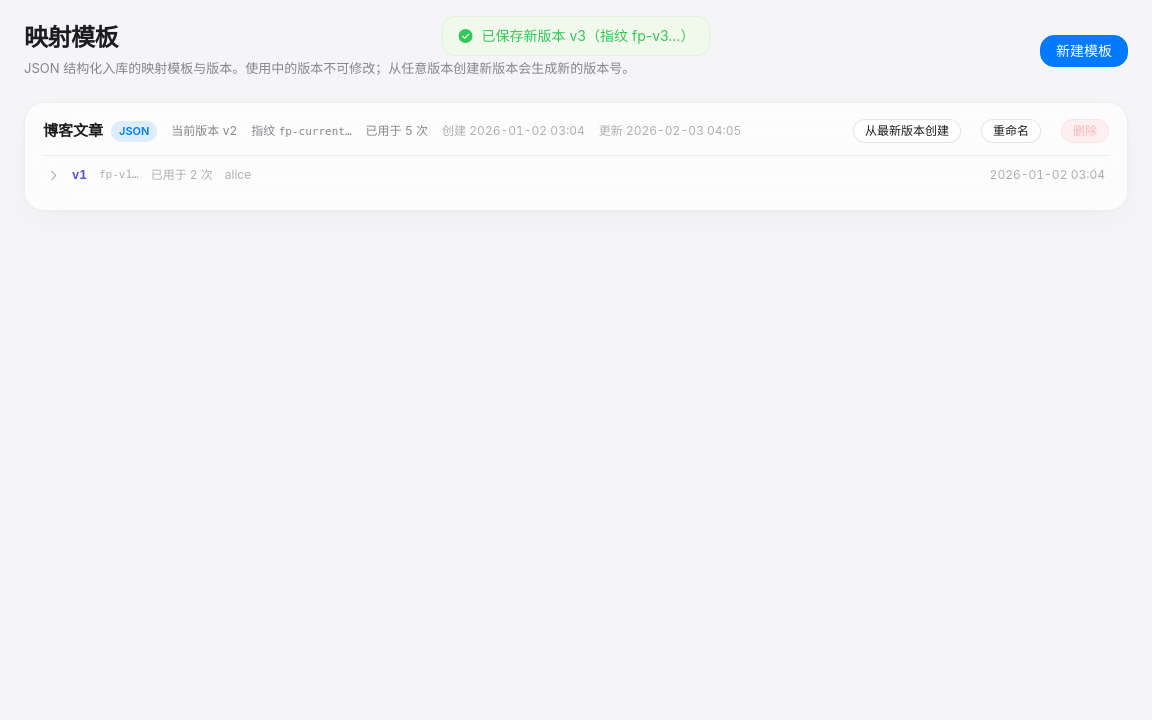
Test: MappingTemplatesView › keeps the save disabled until the mapping has a title/content for every indexed record type
Click the button "从最新版本创建".
click(907, 131)  # box [853,119,961,143]
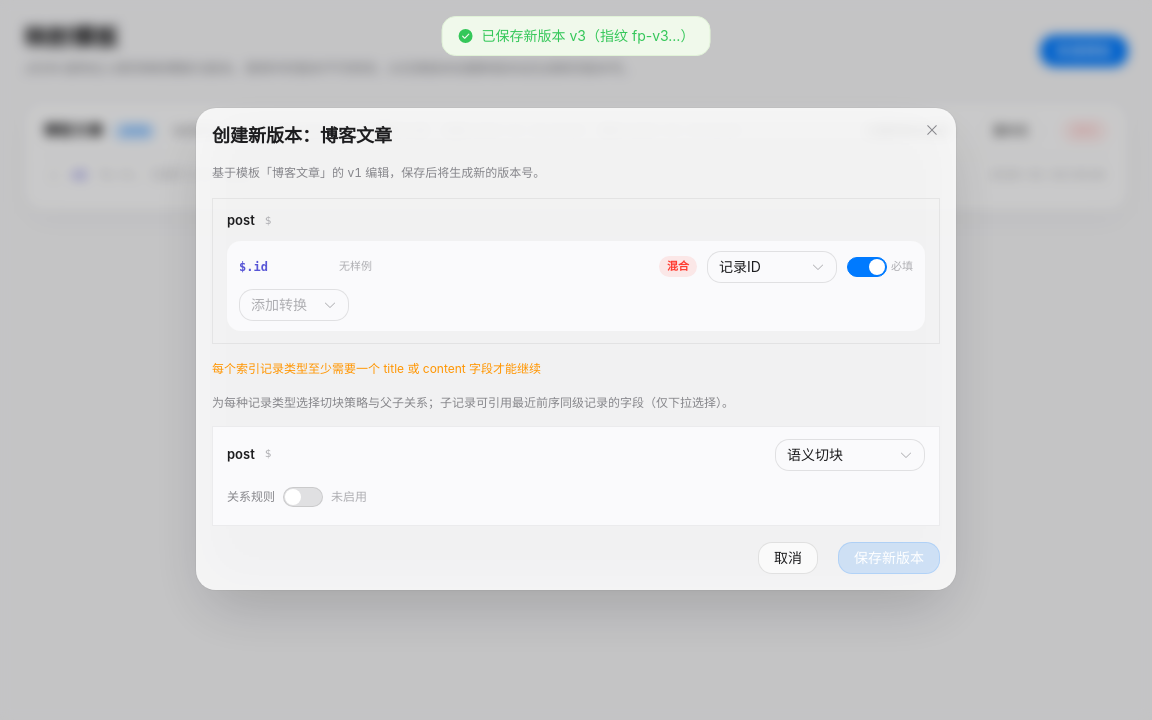
Check: the button "保存新版本" is disabled, box [838,542,940,574]
